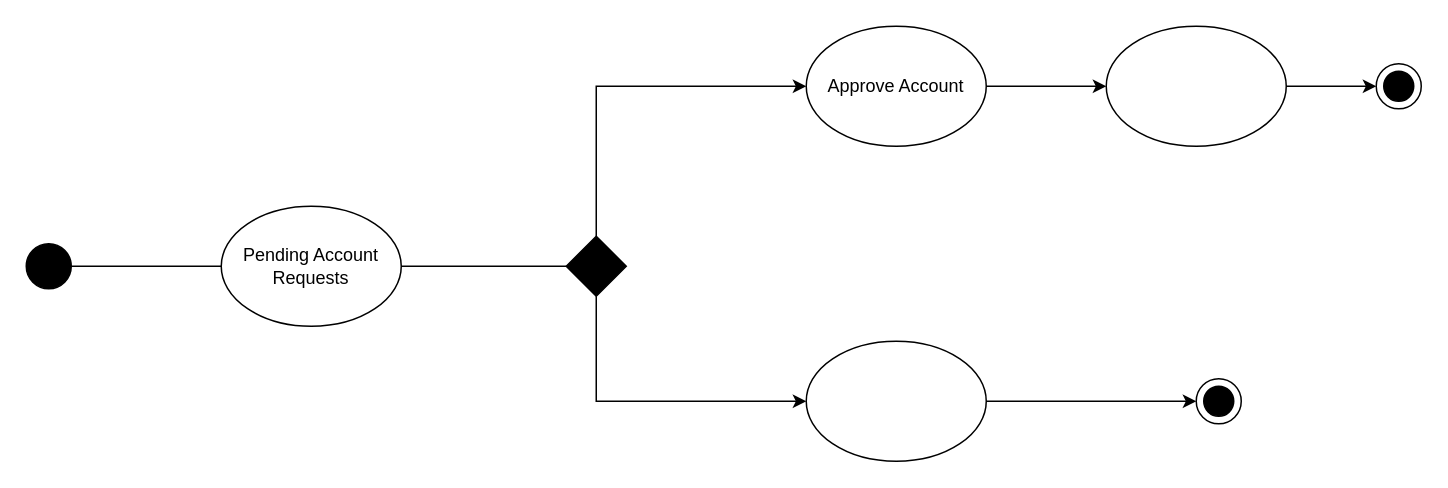
Image size: 1448x488. Some labels were removed from this diagram. Each missing label, with the centre of its shape:
Account Status: Active: the point at 1195,85
Disapprove Account: the point at 895,400
